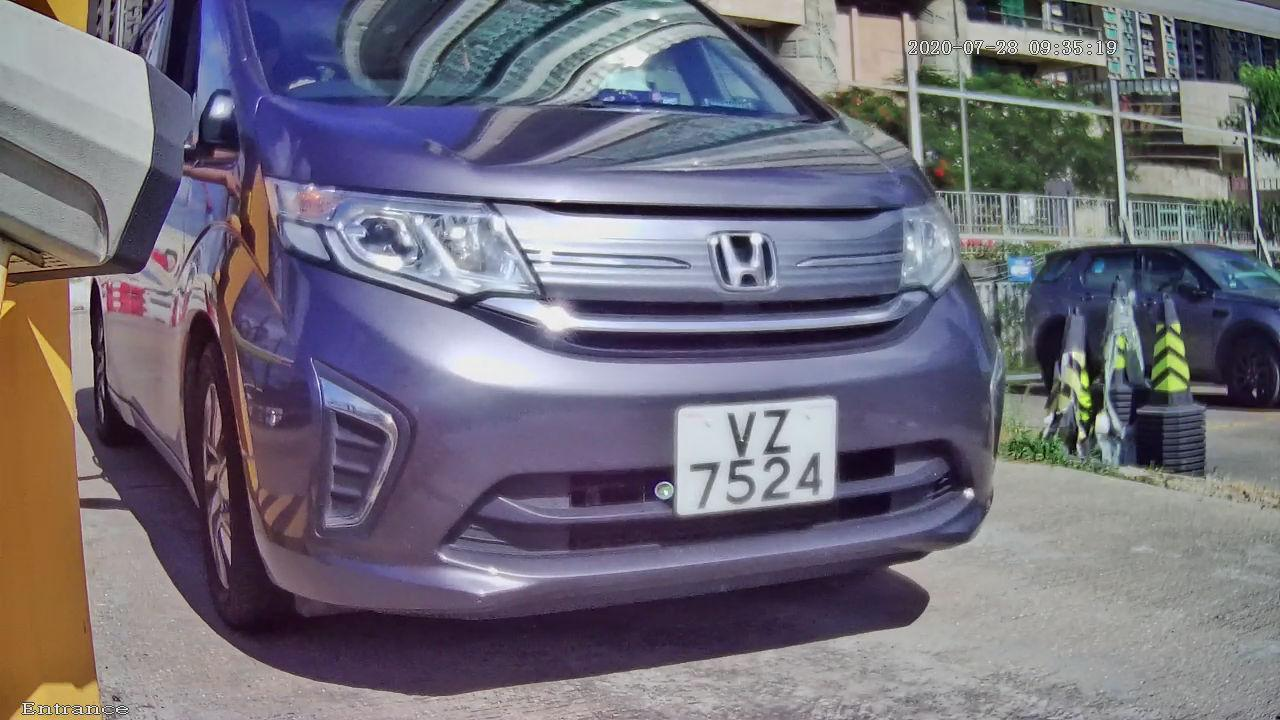privatecar: (6, 1, 1172, 701)
